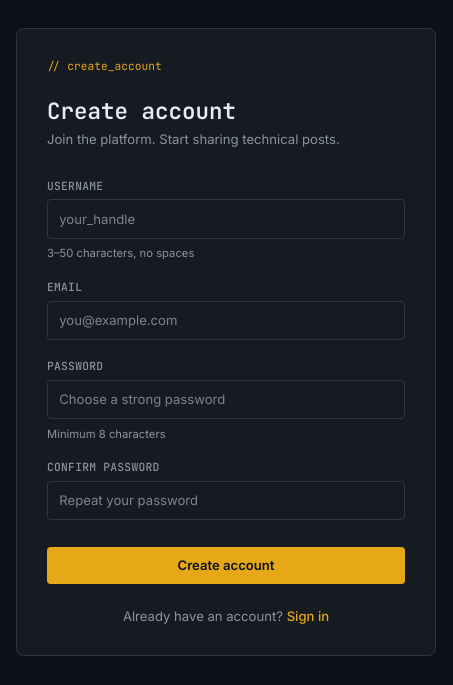
Test case: RegisterView › shows error when passwords do not match
Type "validuser" into the field with id "username". click: {"x": 226, "y": 219}
box: 47,199 -> 405,239
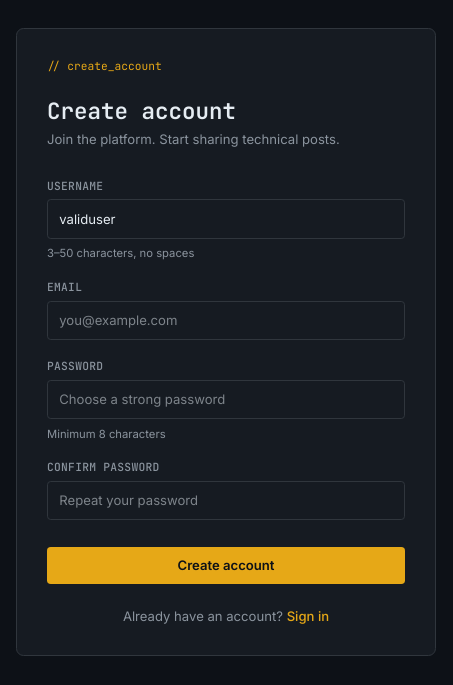
Type "test@test.com" into the field with id "email". click: {"x": 226, "y": 320}
box: 47,301 -> 405,340
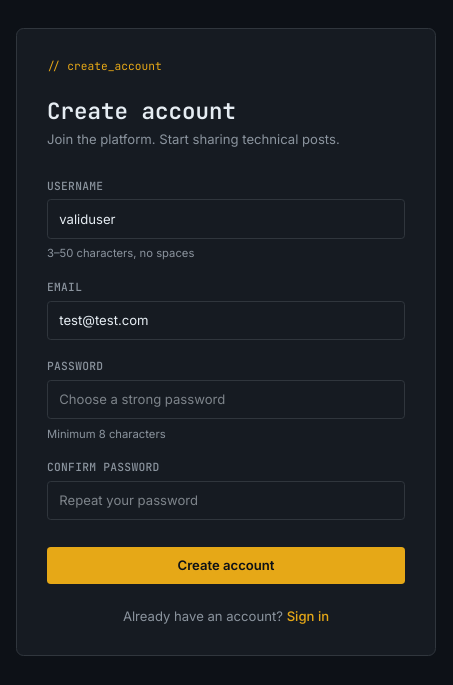
Type "password123" into the password field labelled "Password". click: {"x": 226, "y": 399}
box: 47,380 -> 405,419
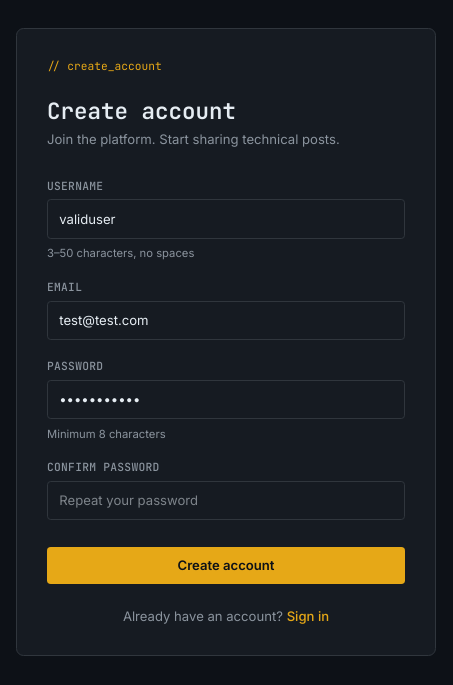
Type "different456" into the password field with id "confirmPassword". click: {"x": 226, "y": 501}
box: 47,481 -> 405,520
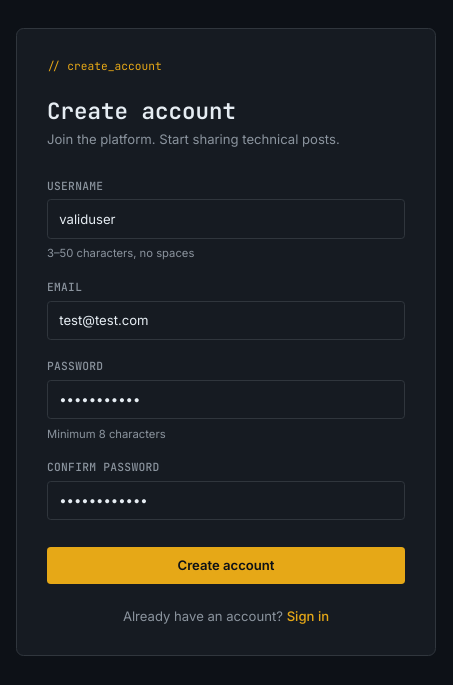
Submit the form, box 47,179 -> 405,584
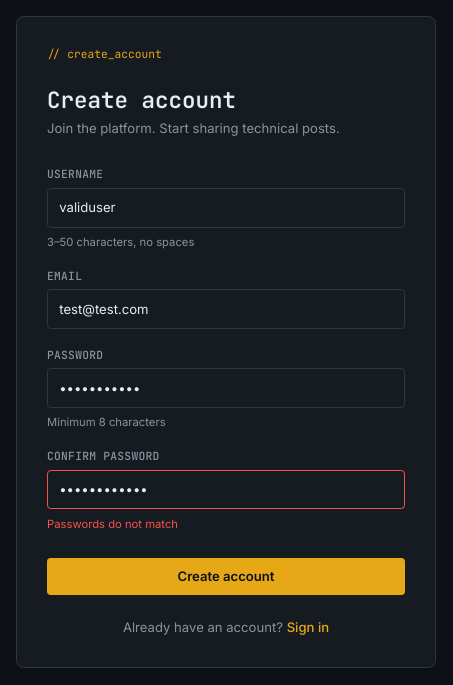
Expected: the text "do not match" is shown, 47,517 -> 178,531
